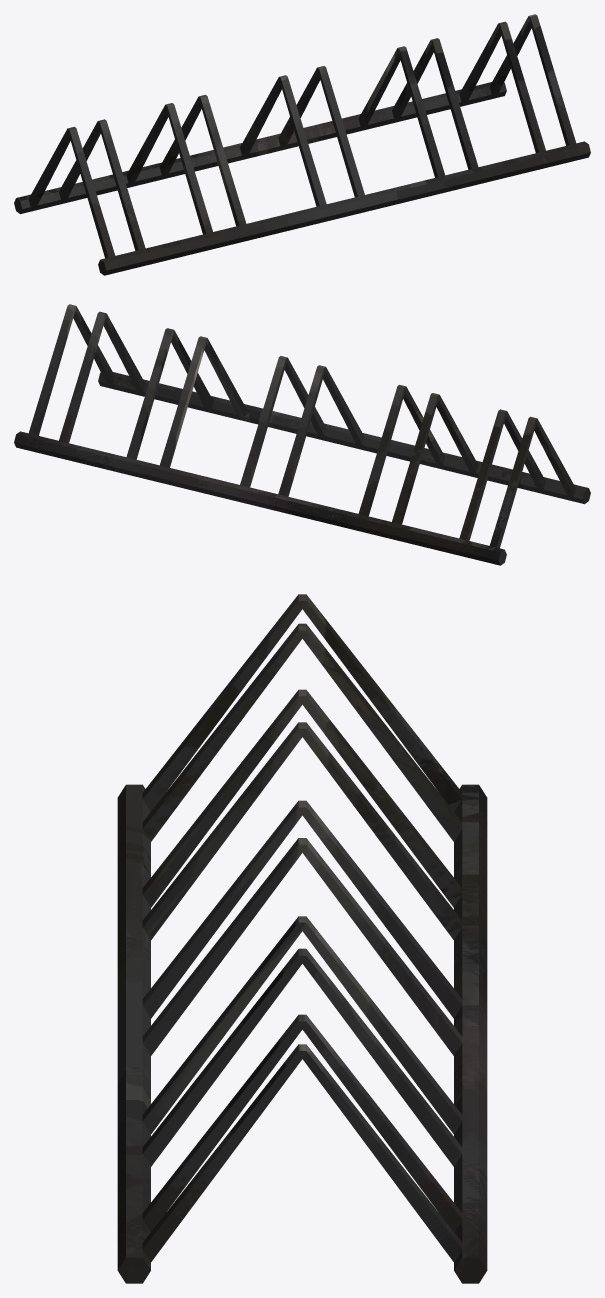
The model's file is P_BIKE SLOT.fbx.
3 views of the same model, one above another, from view 1: azimuth 30°, elevation 25°; view 2: azimuth 150°, elevation 25°; view 3: azimuth 270°, elevation 25° (orthographic). The views are drawn at different scales.
Parts seen in each view (by area): view 1: Bike_Slot; view 2: Bike_Slot; view 3: Bike_Slot.
Boxes of the visible parts, x1,y1,x2,y2 form: Bike_Slot: (14, 14, 590, 275); Bike_Slot: (14, 304, 590, 565); Bike_Slot: (117, 594, 487, 1283).
Size of the model in its own units: 229 by 50.63 by 75.5.
